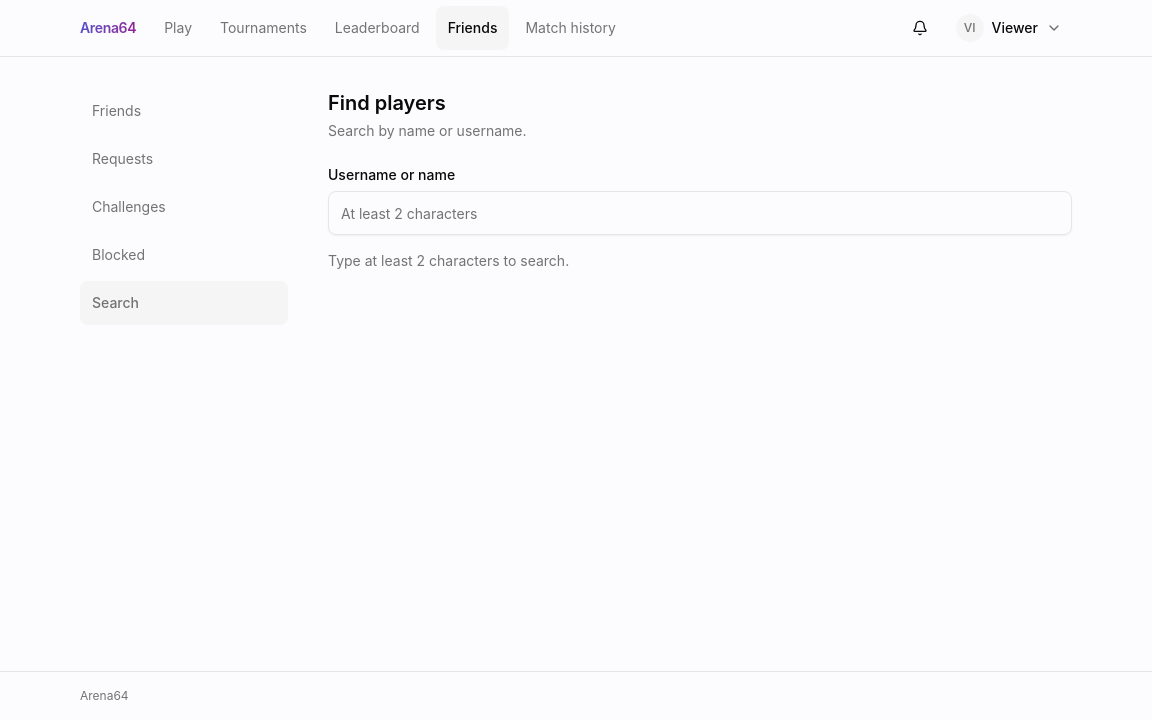
Test: player search › debounces, skips short terms, and renders the server's relationship
One character is below the API's floor — no request at all.
Type "a" into the search field labelled "Username or name" at (700, 213), box [328,191,1072,235]
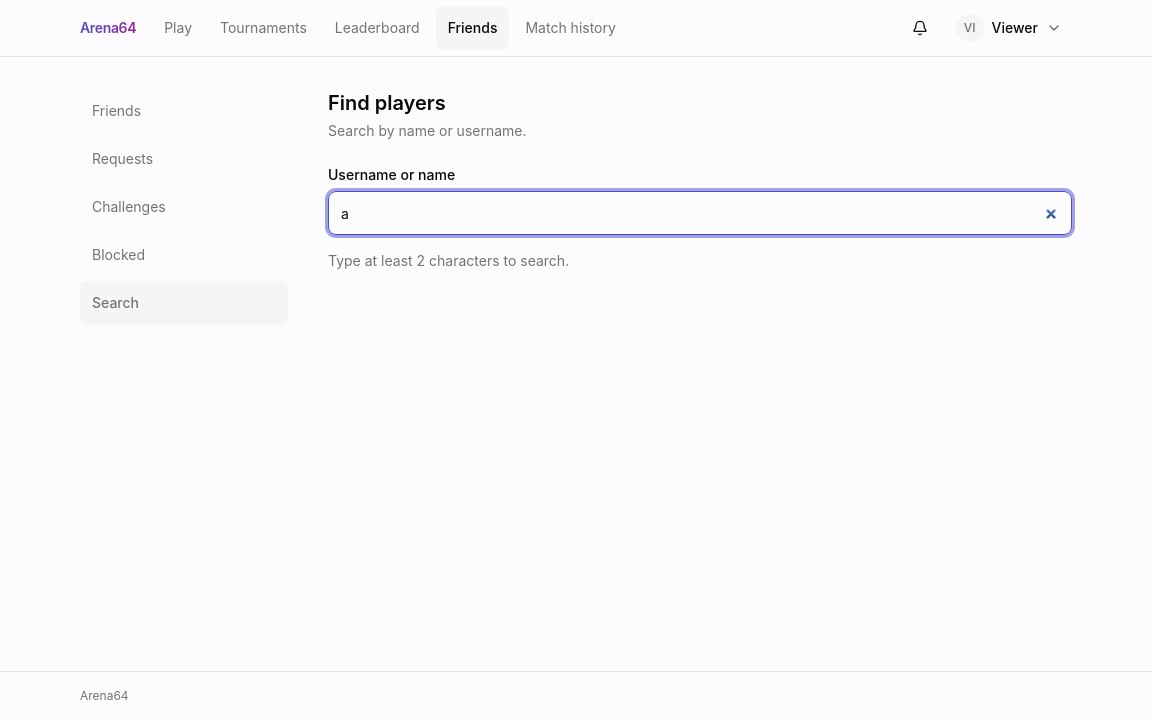
Expected: the message reads "Type at least 2 characters to search.", [328,252,569,269]
Typing the rest issues **one** request, not one per keystroke.
Type "libek" into the search field labelled "Username or name" at (700, 213), box [328,191,1072,235]
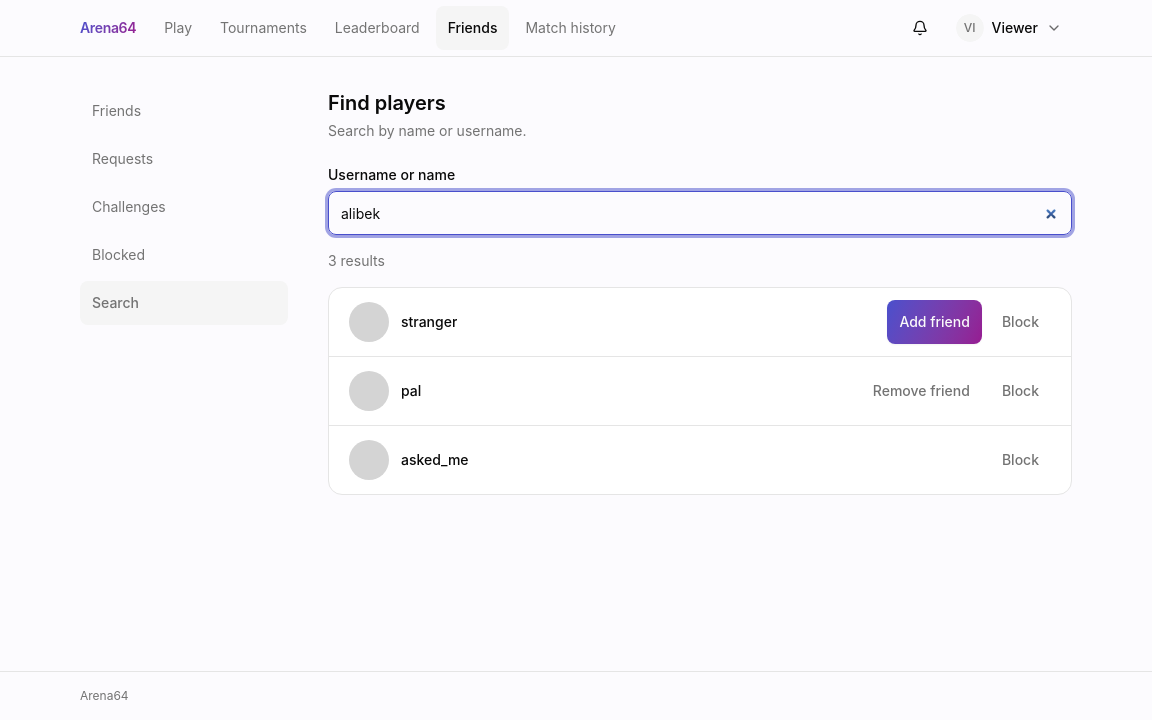
Expected: the text "stranger" is shown, [401,312,457,332]
Expected: the button "Add friend" is shown, [887,300,982,344]
Expected: the button "Remove friend" is shown, [861,369,982,413]
